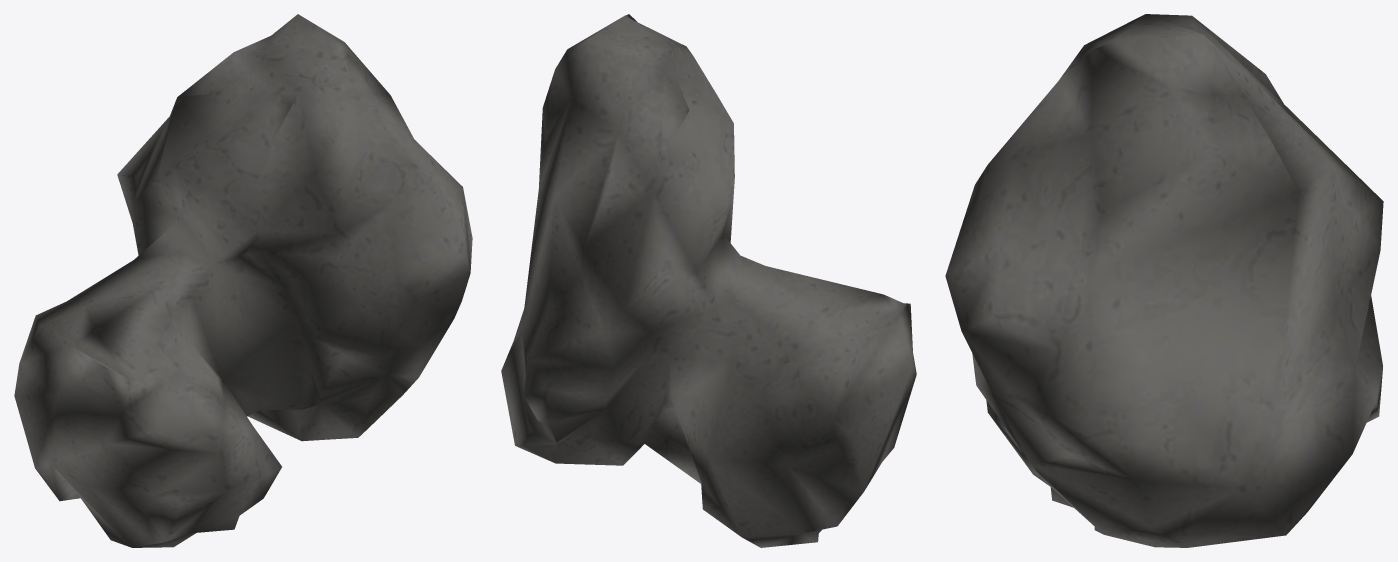
3 views of the same model, side by side, from view 1: azimuth 30°, elevation 25°; view 2: azimuth 150°, elevation 25°; view 3: azimuth 270°, elevation 25° (orthographic). The views are drawn at different scales.
Visible parts, largest first — view 1: lowres_default1_0; view 2: lowres_default1_0; view 3: lowres_default1_0.
Boxes of the visible parts, left/top/right/bottom form: lowres_default1_0: left=14, top=14, right=472, bottom=547; lowres_default1_0: left=501, top=14, right=916, bottom=547; lowres_default1_0: left=945, top=14, right=1383, bottom=547.
Bounding box in the file's own units: 195 × 236 × 162.
Materials: 1 (1 with a texture image).
